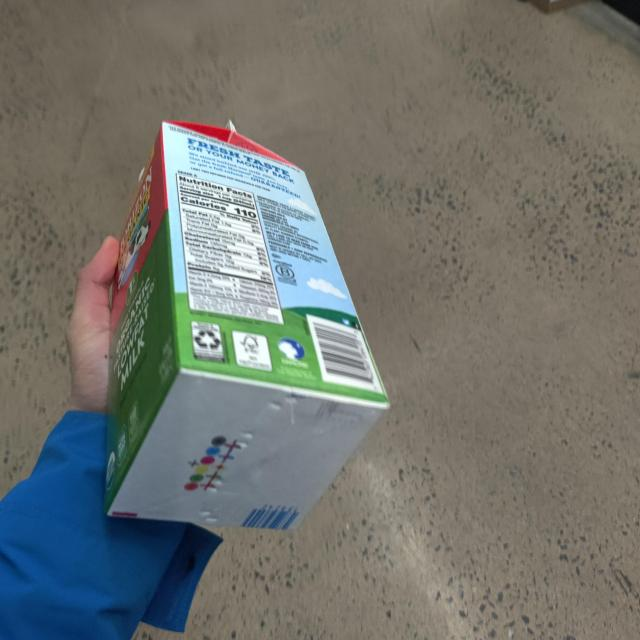Milk: (110, 107, 388, 548)
